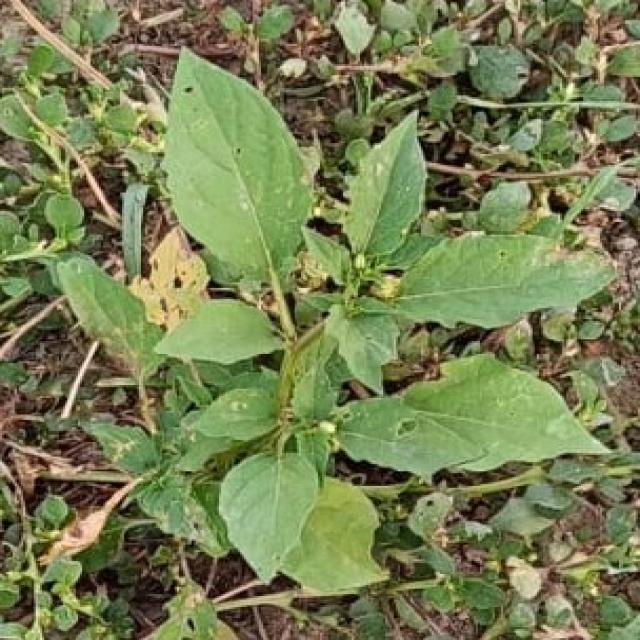weed: (149, 50, 615, 595)
